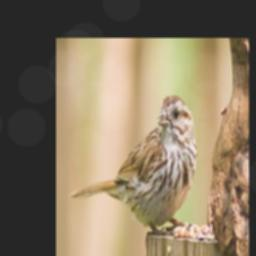Sparrow: (69, 92, 198, 250)
